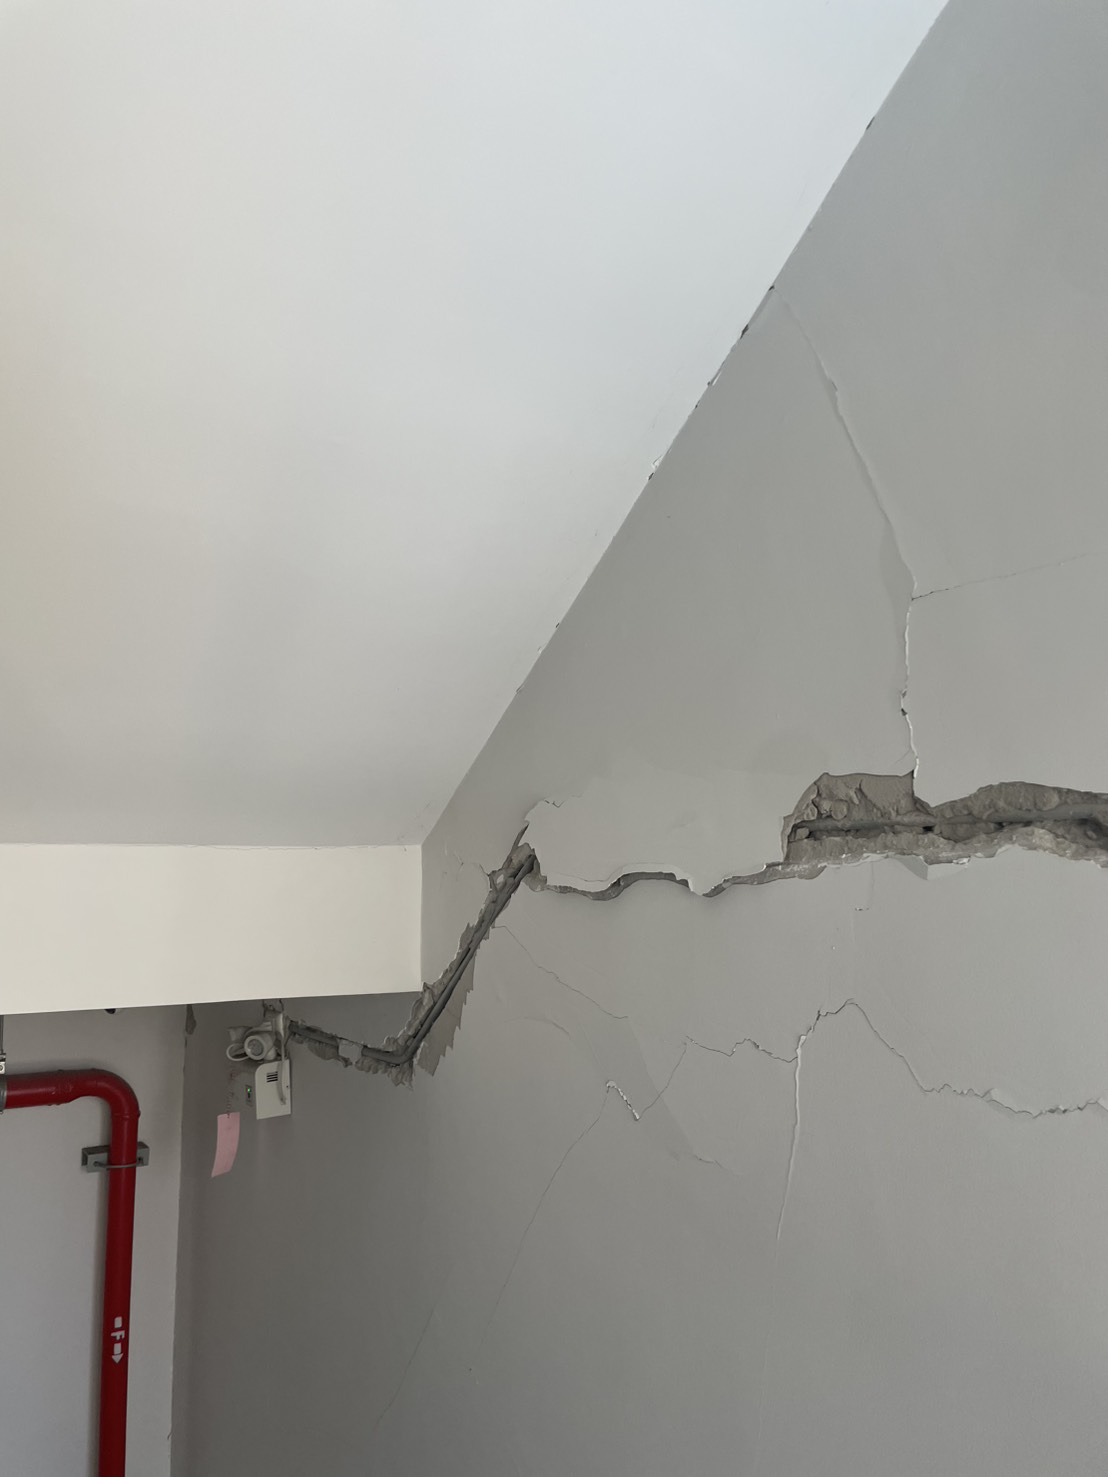Medium: (517, 776, 1099, 970)
